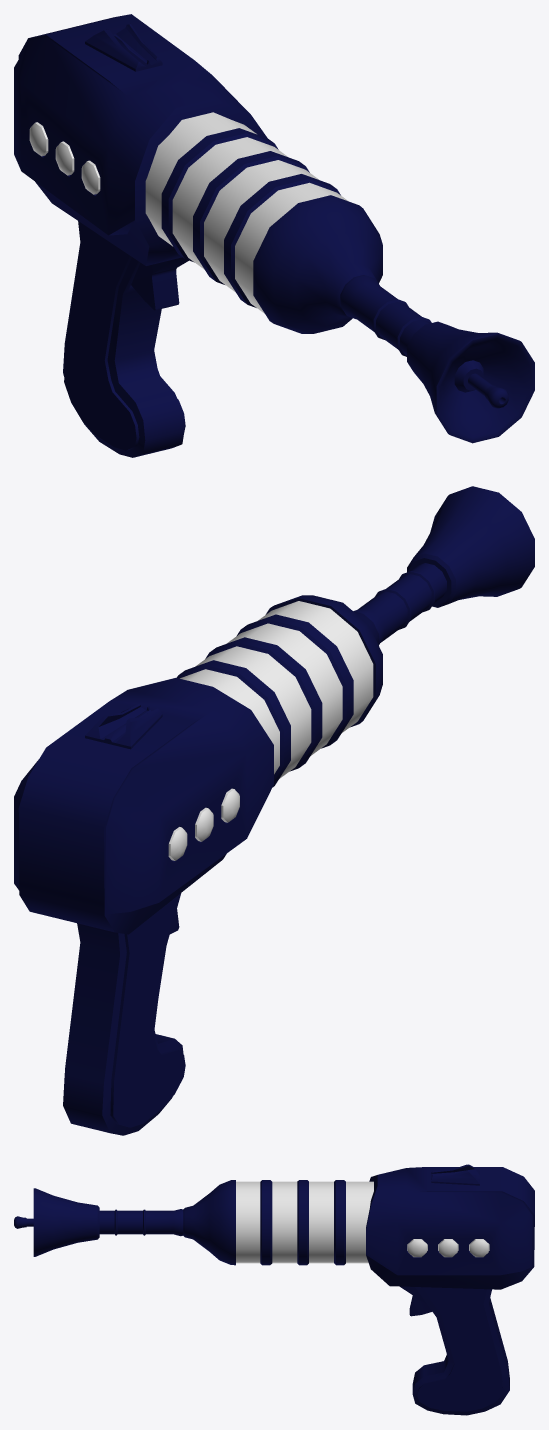
The model's file is Ray Gun.fbx.
3 views of the same model, one above another, from view 1: azimuth 30°, elevation 25°; view 2: azimuth 150°, elevation 25°; view 3: azimuth 270°, elevation 25° (orthographic). The views are drawn at different scales.
Parts seen in each view (by area): view 1: Ray Barrel, Ray Base, Ray Grip, Iron Sights, Trigger; view 2: Ray Base, Ray Barrel, Ray Grip, Iron Sights; view 3: Ray Barrel, Ray Base, Ray Grip, Iron Sights, Trigger.
Part boxes in pixels (x1,y1,x2,y2): Ray Barrel: (145, 112, 534, 443); Ray Base: (14, 14, 267, 265); Ray Grip: (63, 221, 185, 457); Iron Sights: (85, 24, 162, 71); Trigger: (131, 257, 188, 310); Ray Base: (14, 678, 273, 934); Ray Barrel: (176, 486, 534, 787); Ray Grip: (63, 893, 185, 1135); Iron Sights: (85, 704, 162, 749); Ray Barrel: (14, 1180, 373, 1265); Ray Base: (366, 1167, 534, 1289); Ray Grip: (412, 1287, 509, 1415); Iron Sights: (431, 1164, 479, 1185); Trigger: (399, 1286, 432, 1316).
Bounding box in the file's own units: 79.23 × 208 × 405.
